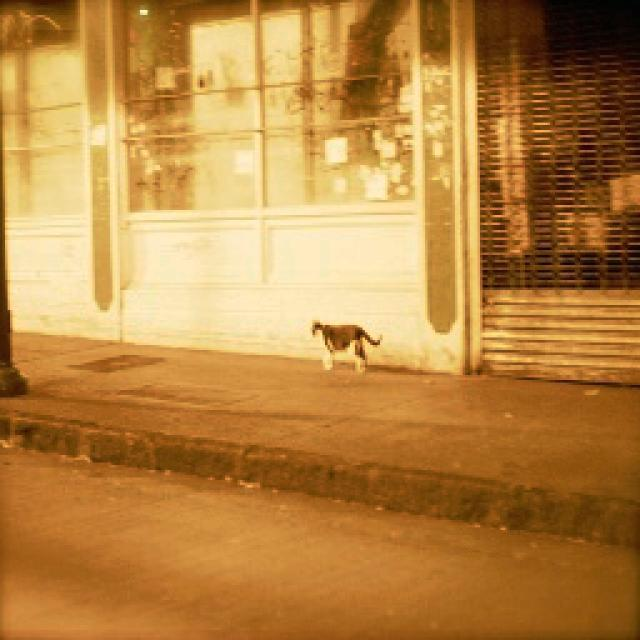cat: (292, 280, 391, 389)
